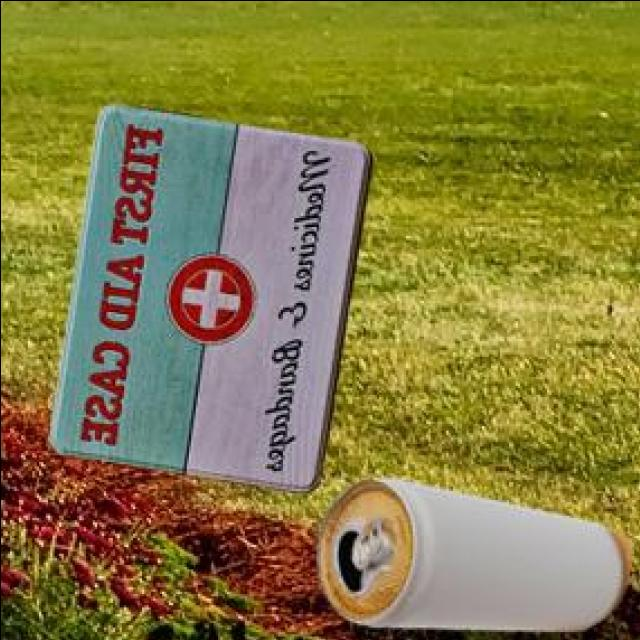logam: (53, 100, 375, 489), (321, 473, 634, 628)
